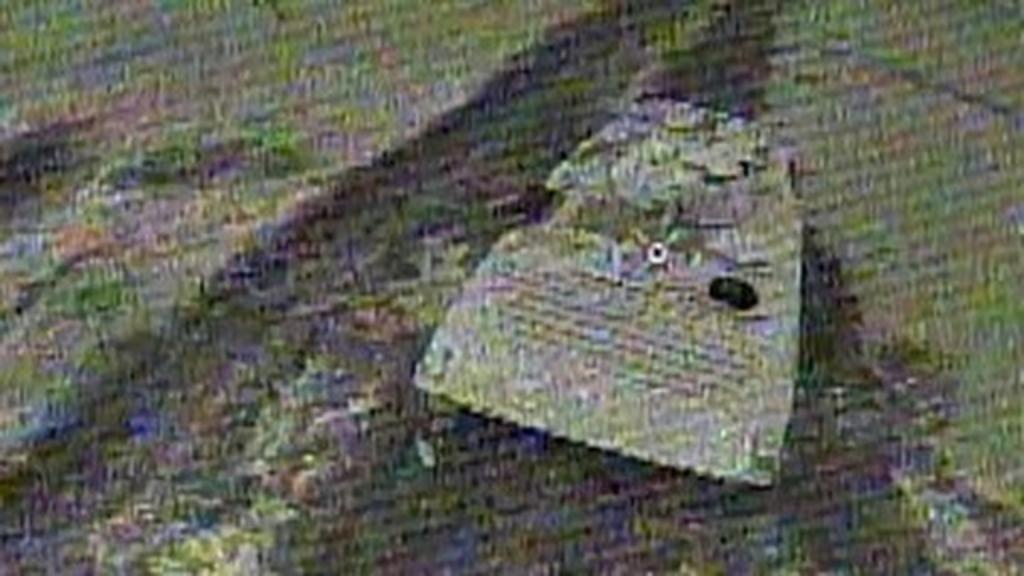APC-IFV: (412, 86, 822, 494)
